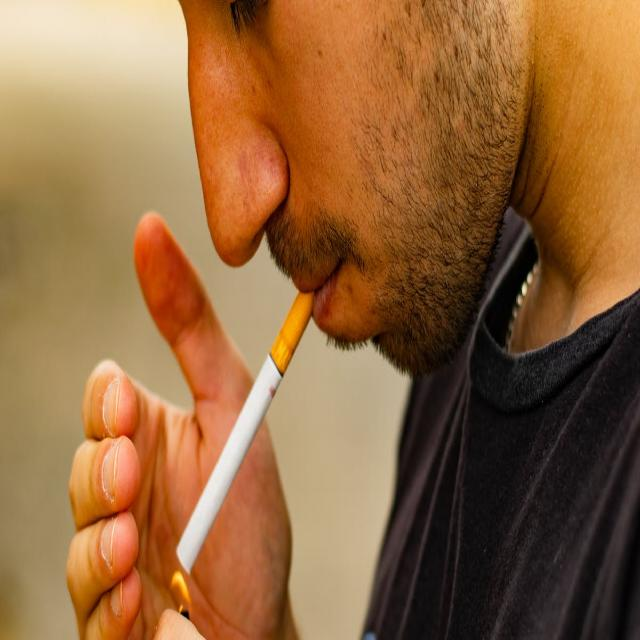cigarette: (174, 285, 315, 578)
